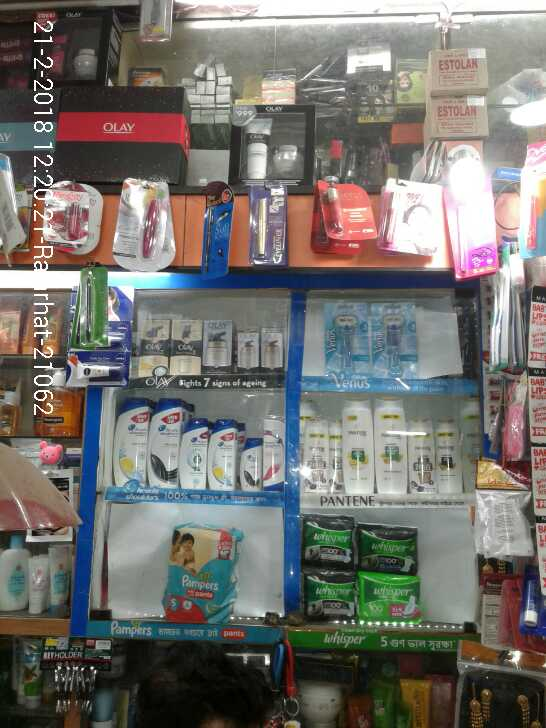venus: (369, 299, 418, 378), (325, 304, 369, 378)
